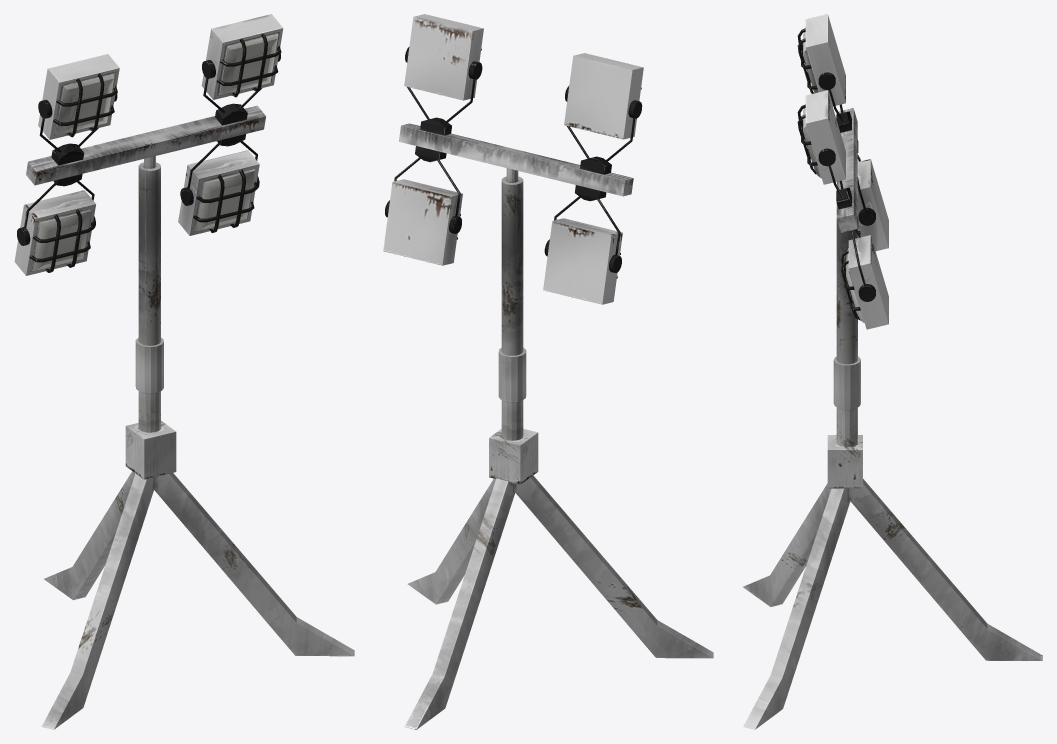
File: Luz.obj
3 views of the same model, side by side, from view 1: azimuth 30°, elevation 25°; view 2: azimuth 150°, elevation 25°; view 3: azimuth 270°, elevation 25° (orthographic). The views are drawn at different scales.
Parts seen in each view (by area): view 1: Luz; view 2: Luz; view 3: Luz.
Boxes of the visible parts, x1,y1,x2,y2 form: Luz: [14, 14, 354, 729]; Luz: [383, 14, 713, 729]; Luz: [743, 14, 1042, 729].
Size of the model in its own units: 4.16 by 7.85 by 3.61.
